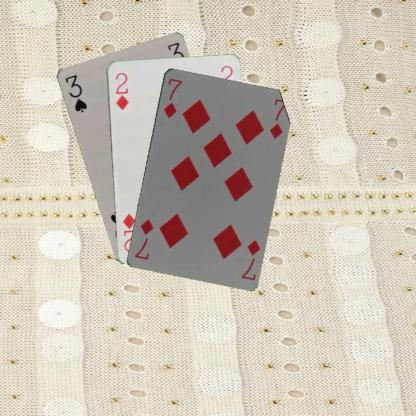2d: (112, 70, 130, 112)
3s: (62, 72, 88, 113)
7d: (238, 236, 262, 282), (160, 75, 184, 119)
